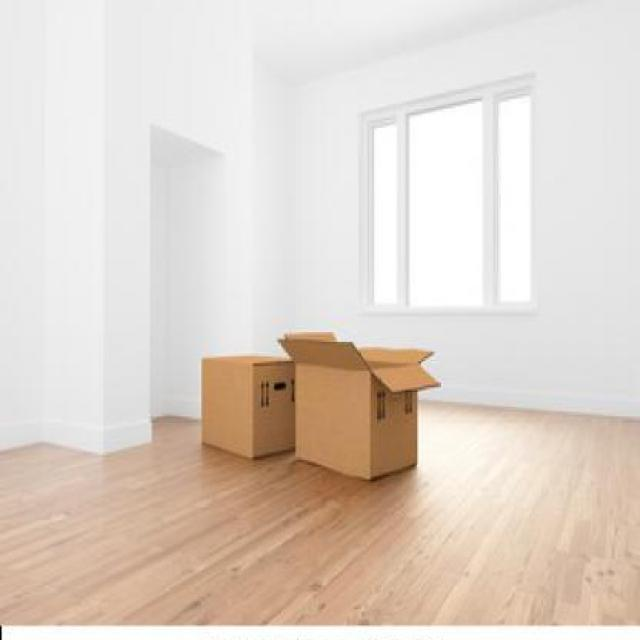box: (278, 301, 444, 504), (194, 342, 303, 475)
